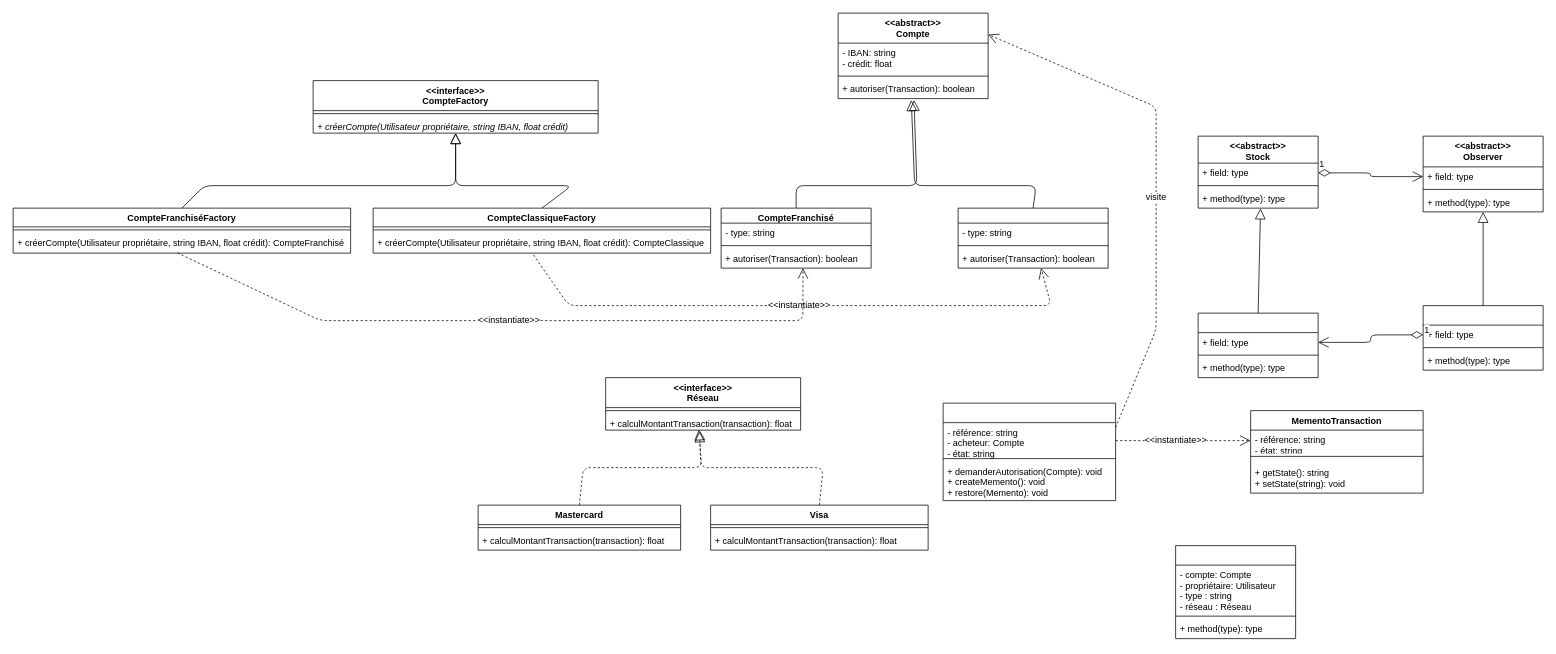
The diagram is 1556 pixels wide and 654 high, and some of its shapes have lost their labels. Here are the shapes that lost their labels. From the top down, the box of each, then its label:
(957, 207, 1108, 268): CompteClassique
(1197, 312, 1318, 378): Stock
(1422, 305, 1543, 370): GestionnaireStock
(942, 402, 1116, 501): Transaction
(1175, 545, 1296, 639): CarteBancaire
